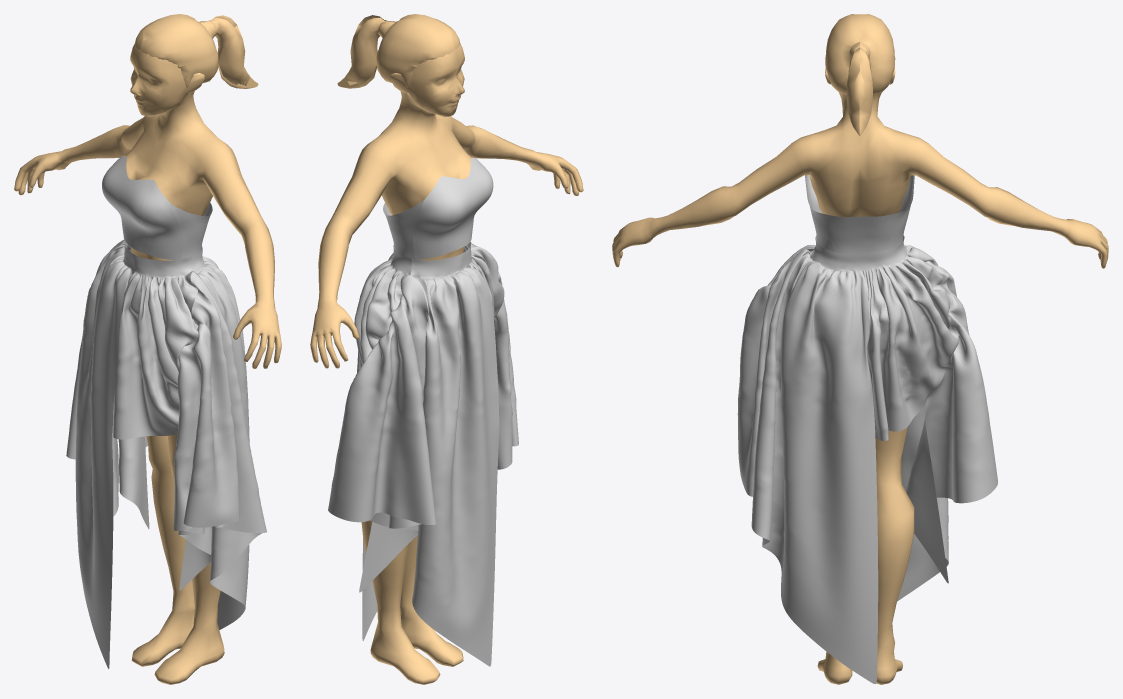
The model's file is Sylva Grace dress.fbx.
The picture shows the model from 3 angles, left to right: view 1: azimuth 30°, elevation 25°; view 2: azimuth 150°, elevation 25°; view 3: azimuth 270°, elevation 25°; orthographic projection.
Parts seen in each view (by area): view 1: Strapless_2, LOWGirl; view 2: Strapless_2, LOWGirl; view 3: Strapless_2, LOWGirl.
Part boxes in pixels (x1,y1,x2,y2): Strapless_2: [66, 156, 266, 668]; LOWGirl: [14, 14, 281, 684]; Strapless_2: [328, 158, 518, 666]; LOWGirl: [310, 14, 583, 684]; Strapless_2: [737, 175, 997, 683]; LOWGirl: [612, 14, 1108, 684].
Size of the model in its own units: 47.21 by 187 by 127.
